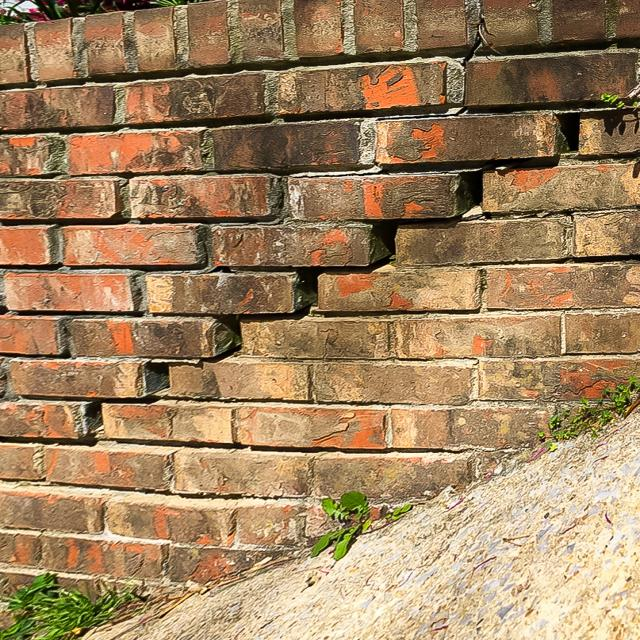Crack: (0, 102, 639, 446)
